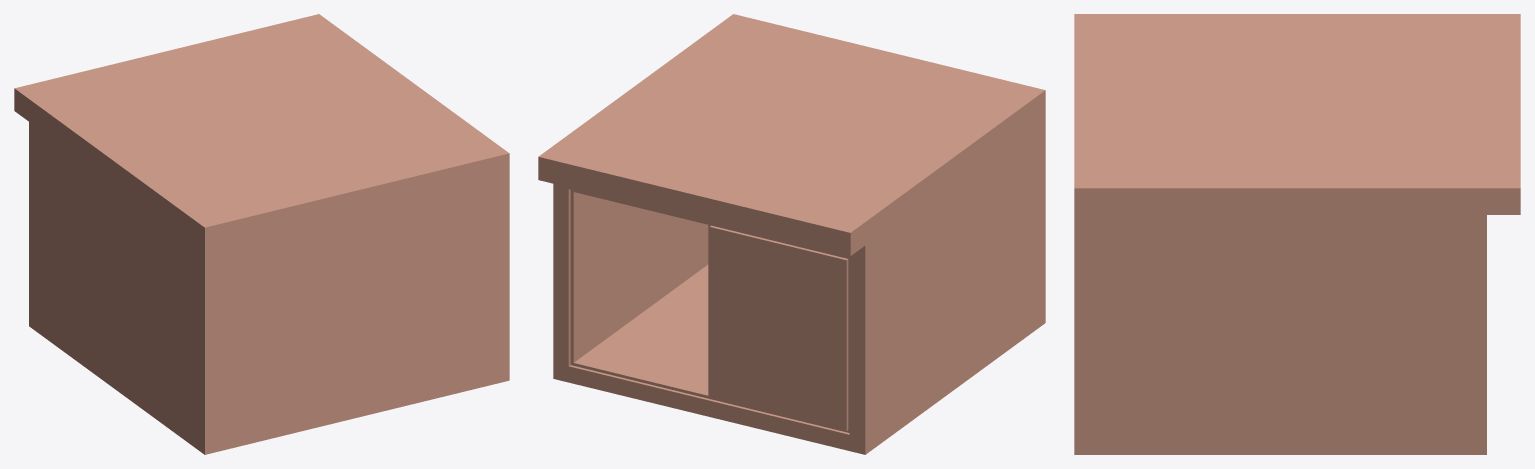
File: Barra_De_Cosina_003.fbx
The picture shows the model from 3 angles, left to right: view 1: azimuth 30°, elevation 25°; view 2: azimuth 150°, elevation 25°; view 3: azimuth 270°, elevation 25°; orthographic projection. The views are drawn at different scales.
Visible parts, largest first — view 1: Barra_De_Cosina_004; view 2: Barra_De_Cosina_004; view 3: Barra_De_Cosina_004.
Part boxes in pixels (<box>): Barra_De_Cosina_004: <box>14,14,509,454</box>; Barra_De_Cosina_004: <box>538,14,1045,454</box>; Barra_De_Cosina_004: <box>1074,14,1520,454</box>.
Size of the model in its own units: 0.02 by 0.0143 by 0.0216.
